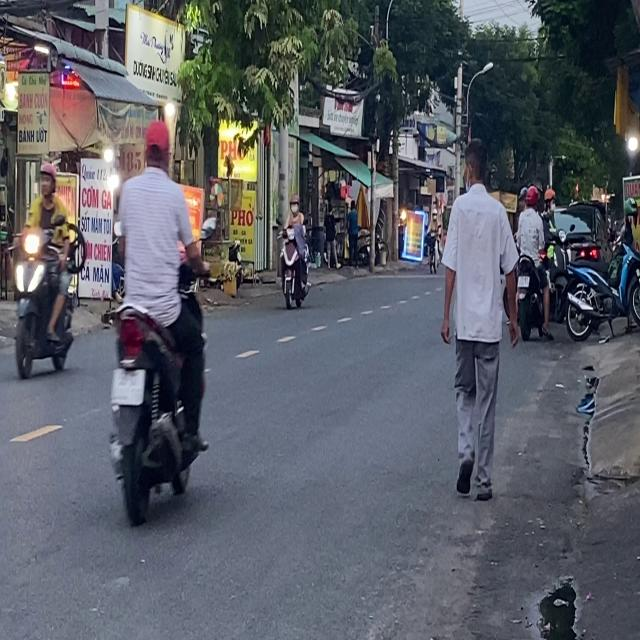helmet: (38, 160, 56, 197), (525, 184, 539, 209)
licenseplate: (104, 116, 212, 524), (11, 158, 79, 380), (514, 182, 551, 340), (276, 193, 311, 310)
motorcyclist: (141, 119, 172, 172)
nohelmet: (112, 369, 144, 403), (518, 275, 529, 287)
